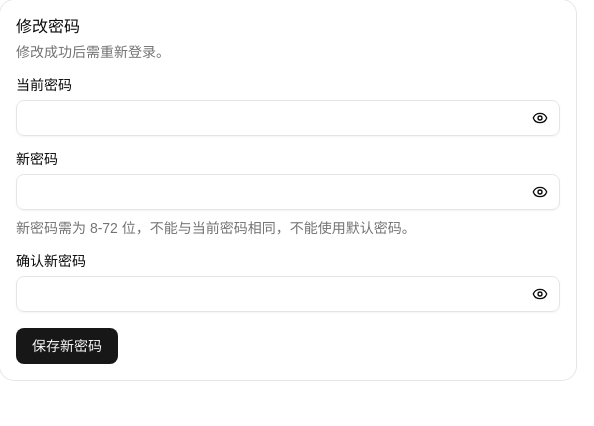
Test: teacher PasswordChangeForm › rejects a new password equal to the current password client-side
Type "samepass" into the password field labelled "当前密码" at [288, 118], box left=16, top=100, right=560, bottom=136
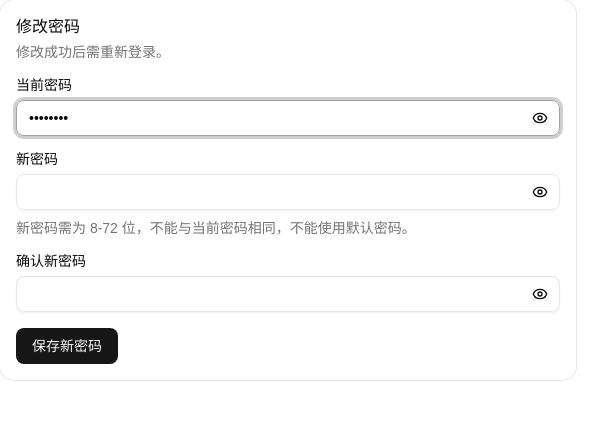
Type "samepass" into the password field labelled "新密码" at [288, 192], box left=16, top=174, right=560, bottom=210
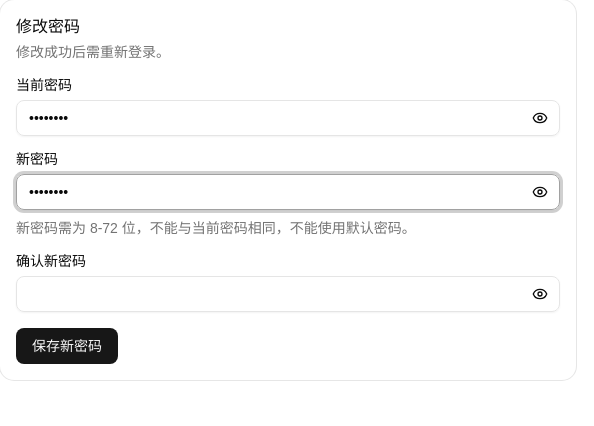
Type "samepass" into the password field labelled "确认新密码" at [288, 294], box left=16, top=276, right=560, bottom=312
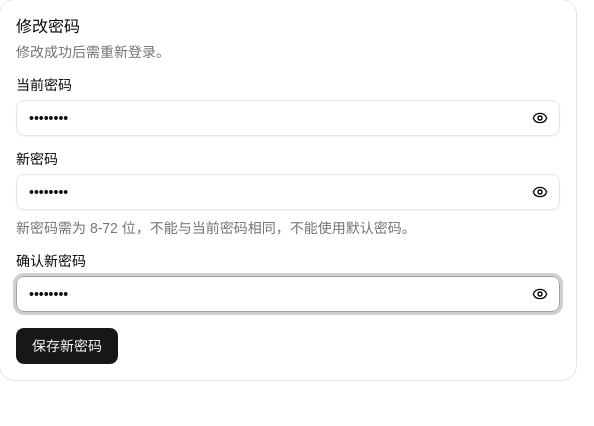
Click the button "保存新密码" at [67, 346], box left=16, top=328, right=118, bottom=364
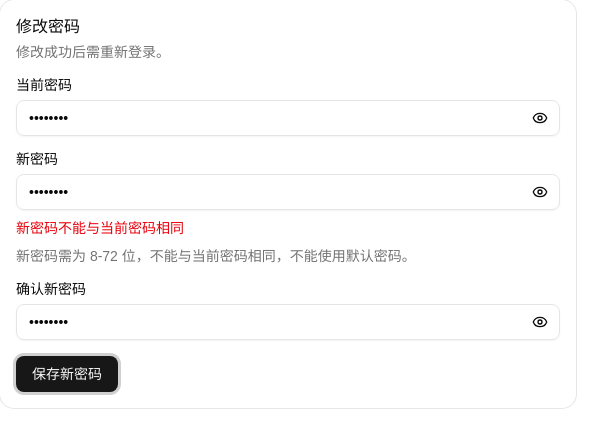
Now the text "新密码不能与当前密码相同" is shown, box left=16, top=220, right=184, bottom=236
